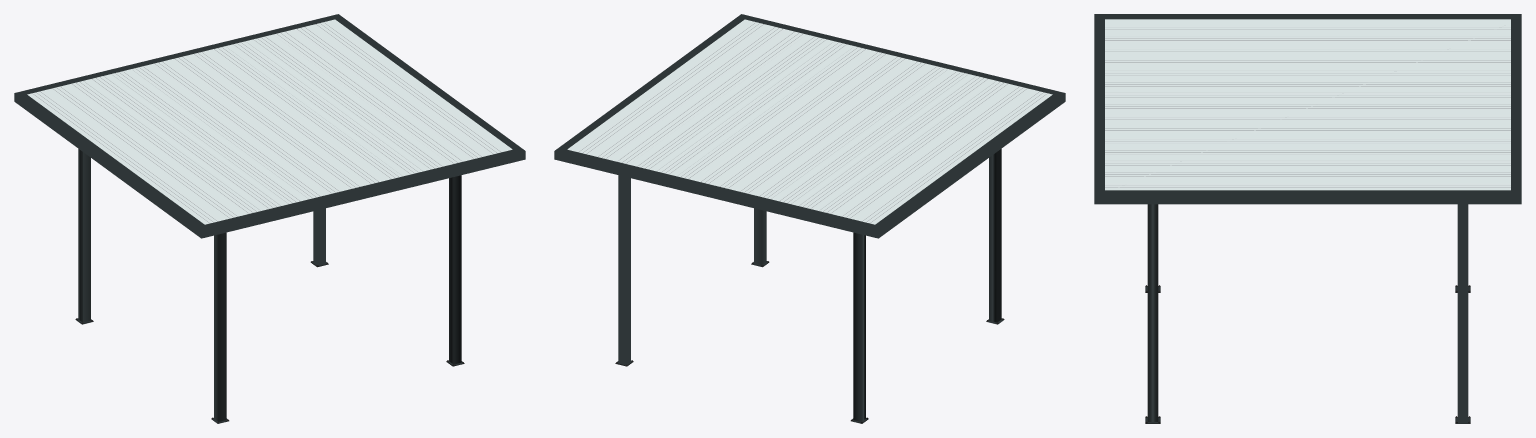
The picture shows the model from 3 angles, left to right: view 1: azimuth 30°, elevation 25°; view 2: azimuth 150°, elevation 25°; view 3: azimuth 270°, elevation 25°; orthographic projection. The views are drawn at different scales.
Visible parts, largest first — view 1: priximbattable_net_pergola_aluminium_29274_pergola_aluminium; view 2: priximbattable_net_pergola_aluminium_29274_pergola_aluminium; view 3: priximbattable_net_pergola_aluminium_29274_pergola_aluminium.
Boxes of the visible parts, box(x1,y1,x2,y2) form: priximbattable_net_pergola_aluminium_29274_pergola_aluminium: box(14, 14, 525, 423); priximbattable_net_pergola_aluminium_29274_pergola_aluminium: box(554, 14, 1065, 423); priximbattable_net_pergola_aluminium_29274_pergola_aluminium: box(1094, 14, 1521, 423).
Bounding box in the file's own units: 400 × 259 × 400.
1 material, 1 textured.
